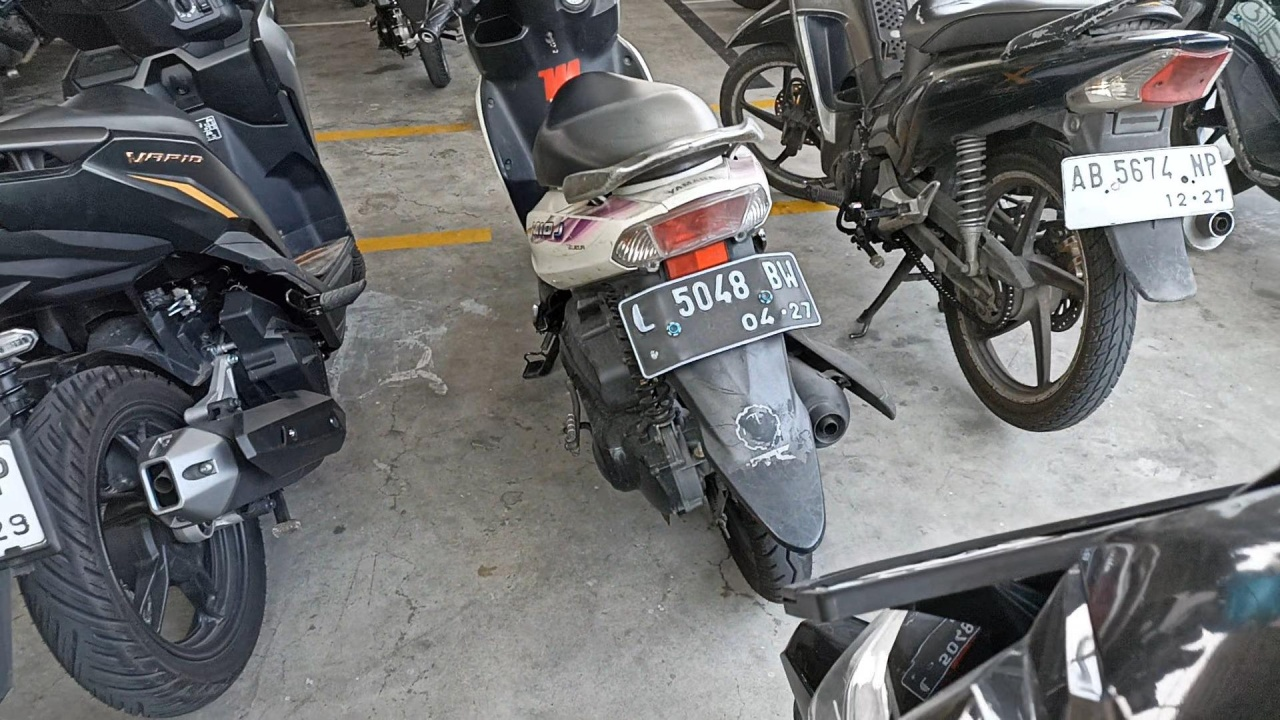plate: (619, 253, 821, 379), (1063, 144, 1236, 230)
